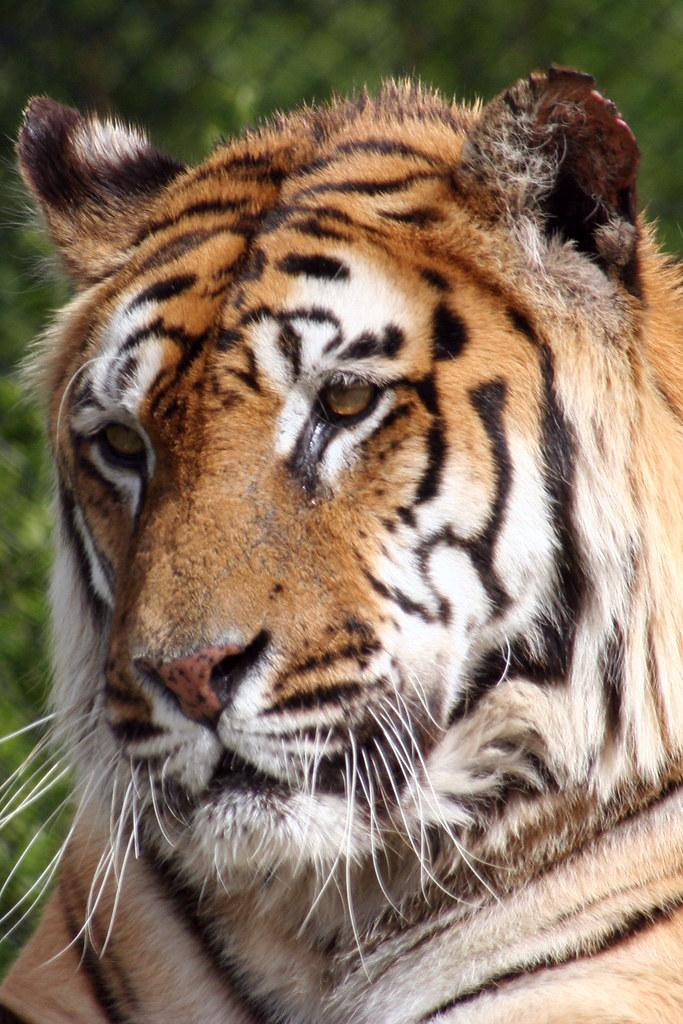tiger: (2, 65, 682, 1022)
